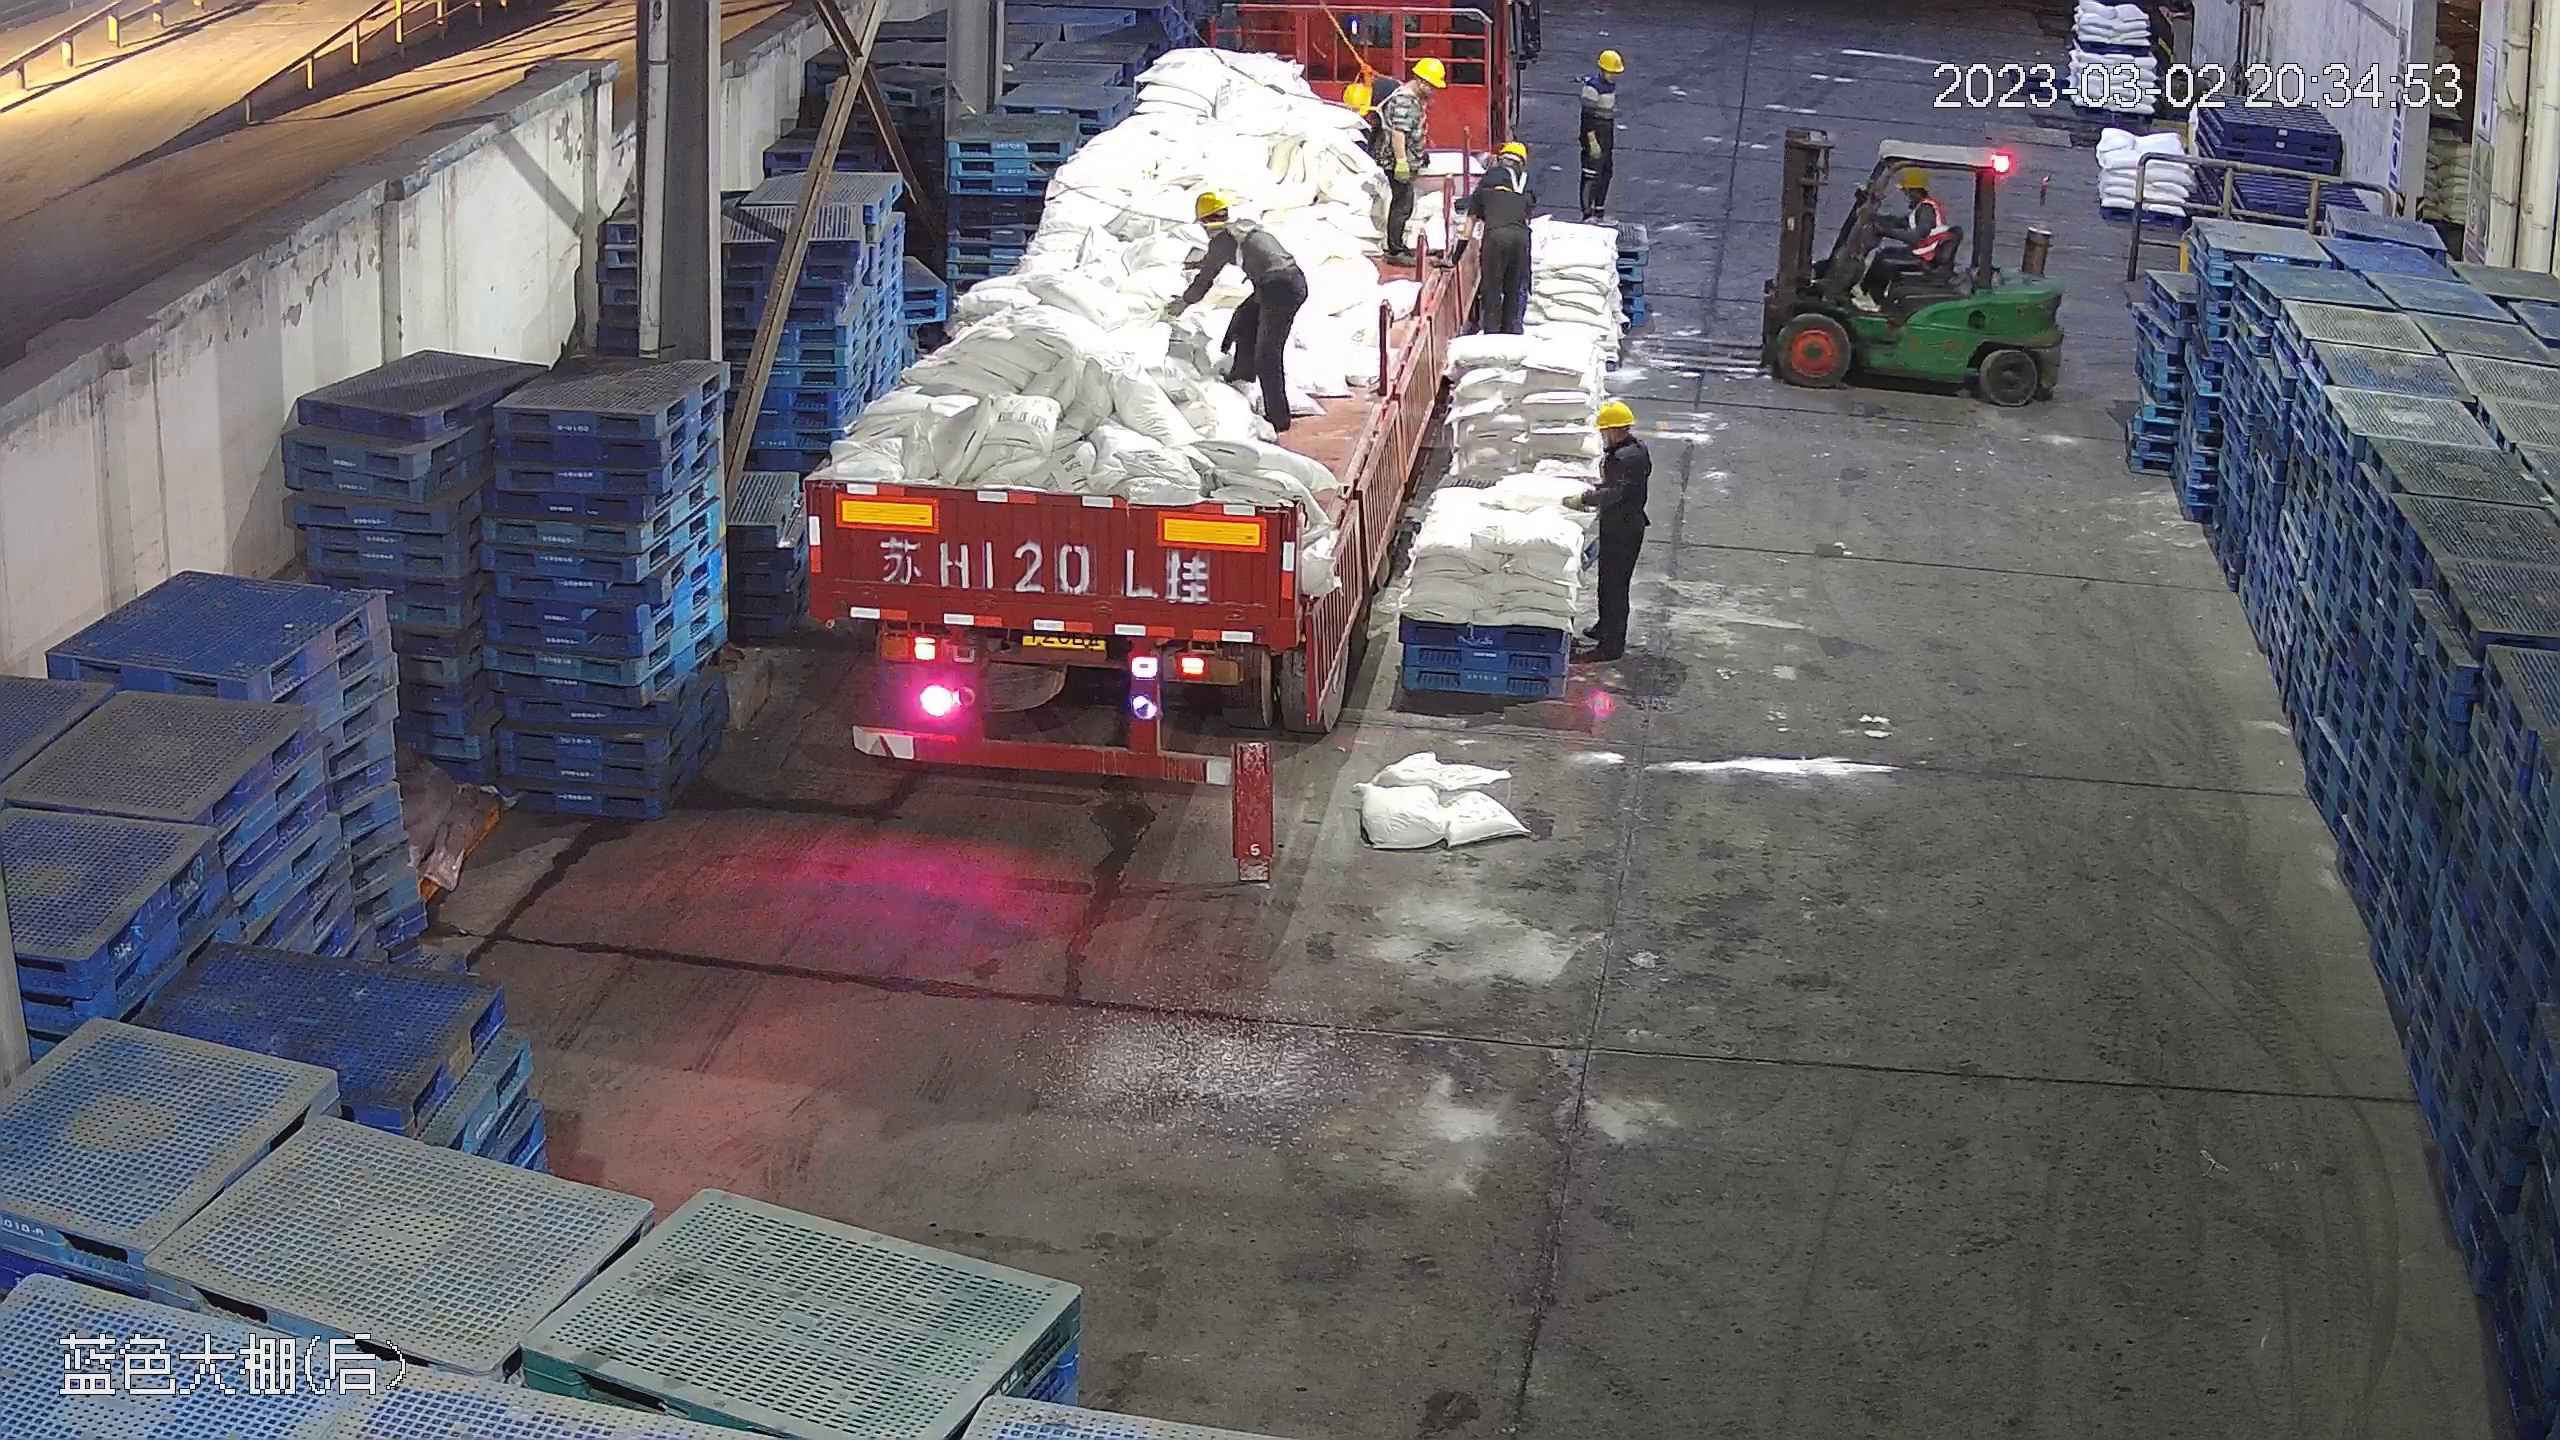belt: (1225, 212, 1288, 271), (1379, 89, 1430, 143), (1350, 52, 1385, 91), (1498, 162, 1529, 196)
head: (1187, 189, 1267, 266), (1585, 401, 1648, 489), (1378, 58, 1448, 134), (1471, 137, 1535, 200), (1897, 165, 1943, 226), (1578, 49, 1624, 105)
helmet: (1580, 49, 1623, 102), (1191, 189, 1230, 220), (1593, 399, 1636, 429), (1411, 57, 1445, 88), (1343, 79, 1373, 114), (1498, 139, 1528, 163), (1900, 164, 1929, 189), (1594, 49, 1622, 72)
people: (1166, 187, 1313, 432), (1567, 400, 1653, 664), (1459, 135, 1542, 333), (1371, 58, 1444, 254), (1863, 165, 1952, 297), (1572, 51, 1623, 226)
truck: (806, 13, 1502, 776)
